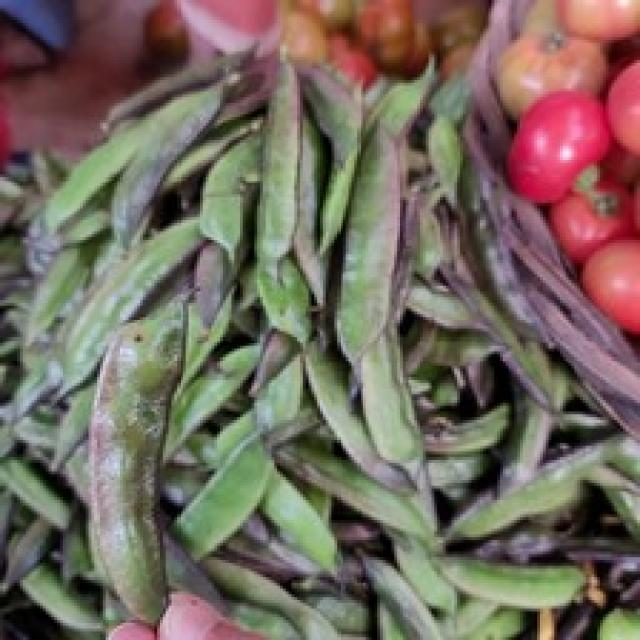Bean: (78, 93, 456, 606)
